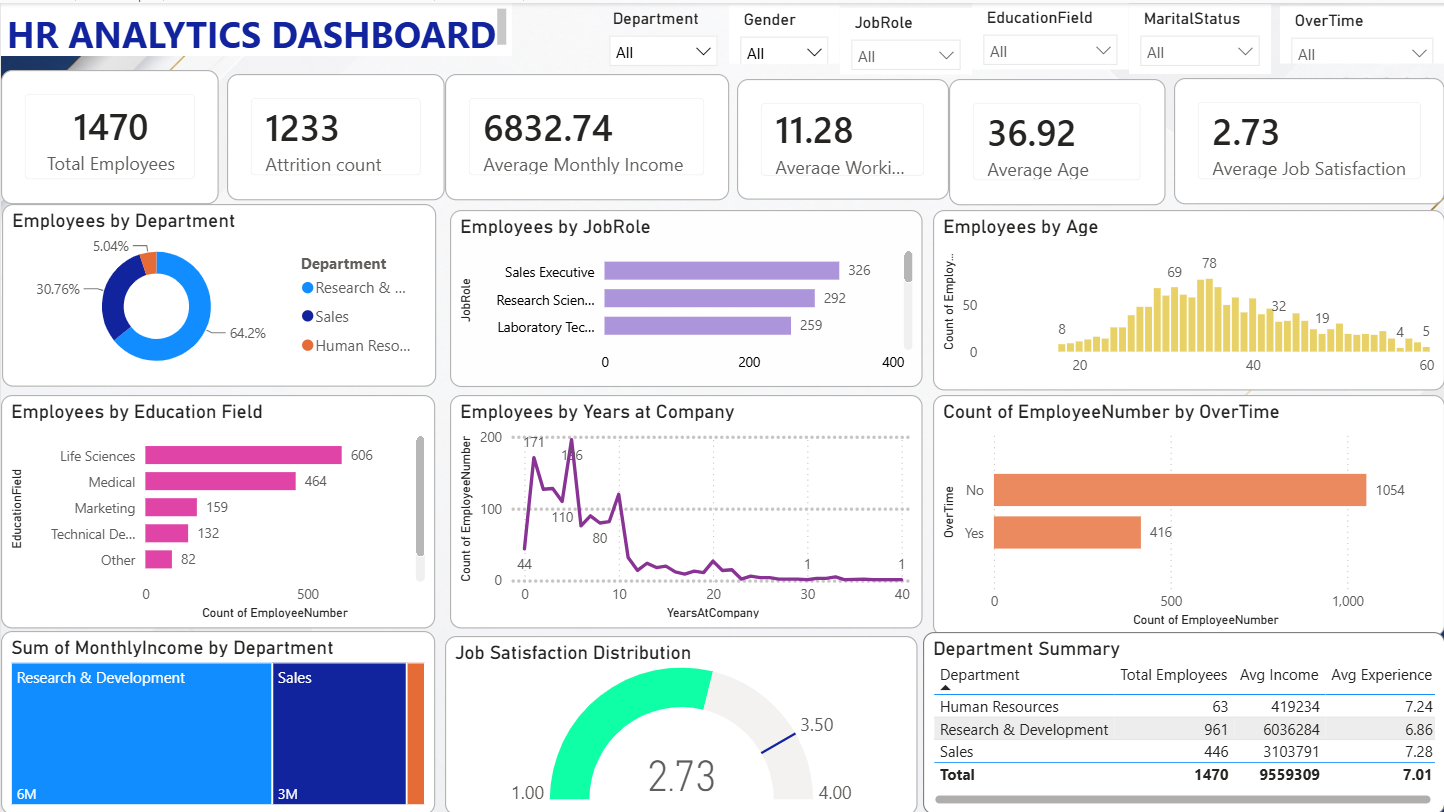

The dashboard page shown, as its layout file describes it:
{"tool":"powerbi","page":{"name":"Page 1","canvas":[1280,720],"ordinal":0},"visuals":[{"type":"textbox","box":[0,0,453.1,47],"z":0},{"type":"cardVisual","fields":{"Data":["Sum(HR_Data.EmployeeCount)"]},"box":[0,59.4,193.3,118.8],"z":1000},{"type":"cardVisual","fields":{"Data":["Avg(HR_Data.Age)"]},"box":[840.6,67.4,191.5,111.7],"z":2000},{"type":"cardVisual","fields":{"Data":["Avg(HR_Data.JobSatisfaction)"]},"box":[1040.1,66.5,240.3,111.7],"z":3000},{"type":"cardVisual","fields":{"Data":["CountNonNull(HR_Data.Attrition)"]},"box":[200.4,63,193.3,111.7],"z":4000},{"type":"cardVisual","fields":{"Data":["Avg(HR_Data.MonthlyIncome)"]},"box":[393.7,63,251.8,111.7],"z":5000},{"type":"donutChart","title":"Employees by Department","fields":{"Category":["HR_Data.Department"],"Y":["Sum(HR_Data.EmployeeNumber)"]},"box":[0.9,178.2,384.8,162.3],"z":6000},{"type":"clusteredBarChart","title":"Employees  by JobRole","fields":{"Category":["HR_Data.JobRole"],"Y":["CountNonNull(HR_Data.EmployeeNumber)"]},"box":[398.1,183.5,419.4,156.9],"z":7000},{"type":"clusteredColumnChart","title":" Employees by Age","fields":{"Category":["HR_Data.Age"],"Y":["CountNonNull(HR_Data.EmployeeNumber)"]},"box":[826.4,183.5,454,159.6],"z":8000},{"type":"clusteredBarChart","title":"Employees by Education Field","fields":{"Y":["CountNonNull(HR_Data.EmployeeNumber)"],"Category":["HR_Data.EducationField"]},"box":[0,347.6,384.8,207.5],"z":9000},{"type":"lineChart","title":"Employees by Years at Company","fields":{"Category":["HR_Data.YearsAtCompany"],"Y":["CountNonNull(HR_Data.EmployeeNumber)"]},"box":[398.1,347.6,419.4,207.5],"z":10000},{"type":"barChart","fields":{"Category":["HR_Data.OverTime"],"Y":["CountNonNull(HR_Data.EmployeeNumber)"]},"box":[826.4,347.6,454,213.7],"z":11000},{"type":"treemap","fields":{"Group":["HR_Data.Department"],"Values":["Sum(HR_Data.MonthlyIncome)"]},"box":[0,556.8,384.8,163.2],"z":12000},{"type":"tableEx","title":"Department Summary","fields":{"Values":["HR_Data.Department","CountNonNull(HR_Data.EmployeeCount)","Sum(HR_Data.MonthlyIncome)","Avg(HR_Data.YearsAtCompany)"]},"box":[817.5,557.7,462.9,162.3],"z":13000},{"type":"gauge","title":"Job Satisfaction Distribution","fields":{"Y":["Avg(HR_Data.JobSatisfaction)"]},"box":[393.7,561.3,419.4,158.7],"z":15000},{"type":"cardVisual","fields":{"Data":["Avg(HR_Data.TotalWorkingYears)"]},"box":[652.6,67.4,188,107.3],"z":16000},{"type":"slicer","fields":{"Values":["HR_Data.Department"]},"box":[529.4,0.9,116.2,58.5],"z":17000},{"type":"slicer","fields":{"Values":["HR_Data.JobRole"]},"box":[743.9,4.4,117,58.5],"z":18000},{"type":"slicer","fields":{"Values":["HR_Data.Gender"]},"box":[645.5,1.8,98.4,52.3],"z":19000},{"type":"slicer","fields":{"Values":["HR_Data.OverTime"]},"box":[1134.1,2.7,146.3,51.4],"z":20000},{"type":"slicer","fields":{"Values":["HR_Data.MaritalStatus"]},"box":[1000.2,0.9,125.9,62.1],"z":21000},{"type":"slicer","fields":{"Values":["HR_Data.EducationField"]},"box":[861,0,139.2,59.4],"z":22000}]}

Visuals, with their boxes in screenshot pixels (x1, y1, x2, y2), scaled from the page's 1280x720 canvas onto the 1444x812 screenshot:
textbox: bbox(0, 0, 511, 53)
cardVisual - Sum(HR_Data.EmployeeCount): bbox(0, 67, 218, 201)
cardVisual - Avg(HR_Data.Age): bbox(948, 76, 1164, 202)
cardVisual - Avg(HR_Data.JobSatisfaction): bbox(1173, 75, 1443, 201)
cardVisual - CountNonNull(HR_Data.Attrition): bbox(226, 71, 444, 197)
cardVisual - Avg(HR_Data.MonthlyIncome): bbox(444, 71, 728, 197)
"Employees by Department" donutChart: bbox(1, 201, 435, 384)
"Employees  by JobRole" clusteredBarChart: bbox(449, 207, 922, 384)
" Employees by Age" clusteredColumnChart: bbox(932, 207, 1443, 387)
"Employees by Education Field" clusteredBarChart: bbox(0, 392, 434, 626)
"Employees by Years at Company" lineChart: bbox(449, 392, 922, 626)
barChart - HR_Data.OverTime x CountNonNull(HR_Data.EmployeeNumber): bbox(932, 392, 1443, 633)
treemap - HR_Data.Department x Sum(HR_Data.MonthlyIncome): bbox(0, 628, 434, 811)
"Department Summary" tableEx: bbox(922, 629, 1443, 811)
"Job Satisfaction Distribution" gauge: bbox(444, 633, 917, 811)
cardVisual - Avg(HR_Data.TotalWorkingYears): bbox(736, 76, 948, 197)
slicer - HR_Data.Department: bbox(597, 1, 728, 67)
slicer - HR_Data.JobRole: bbox(839, 5, 971, 71)
slicer - HR_Data.Gender: bbox(728, 2, 839, 61)
slicer - HR_Data.OverTime: bbox(1279, 3, 1443, 61)
slicer - HR_Data.MaritalStatus: bbox(1128, 1, 1270, 71)
slicer - HR_Data.EducationField: bbox(971, 0, 1128, 67)
